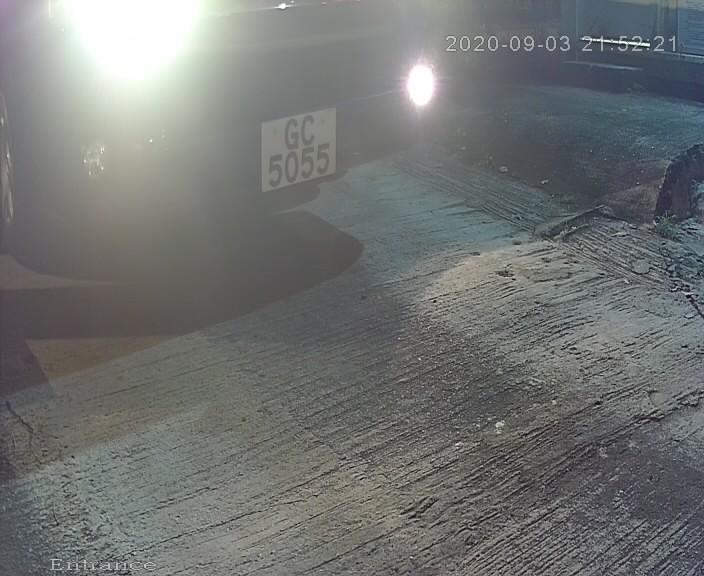License Plate: (246, 93, 349, 209)
